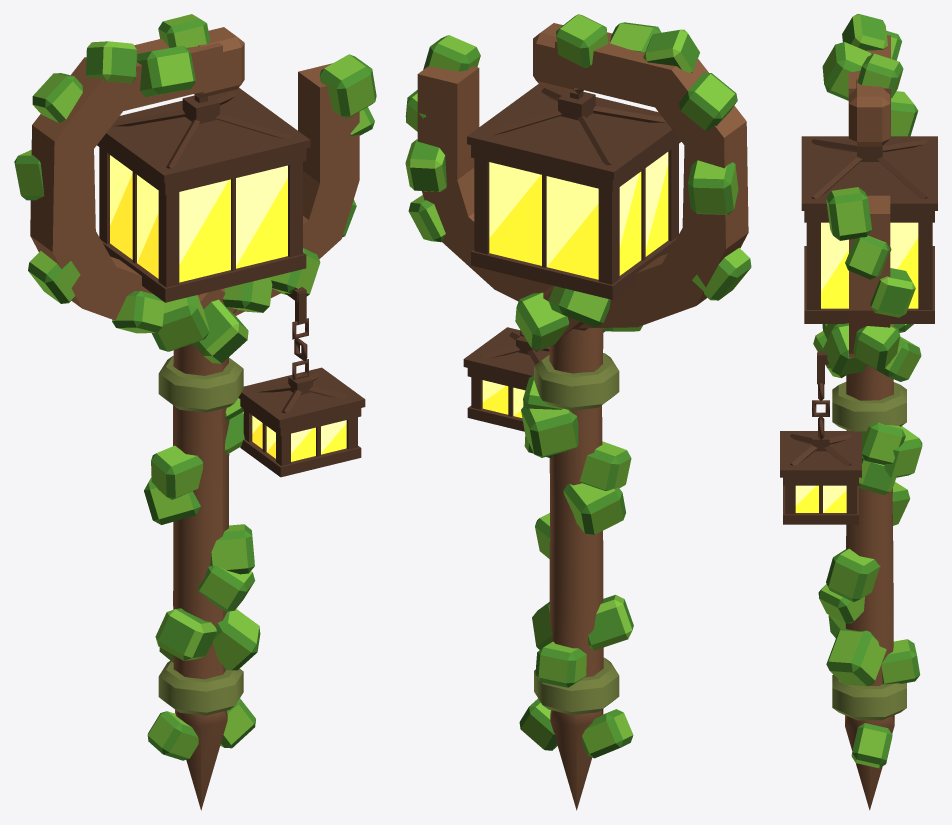
Rendered from lantern_staff.glb.
3 renders of one model, left to right at view 1: azimuth 30°, elevation 25°; view 2: azimuth 150°, elevation 25°; view 3: azimuth 270°, elevation 25°, orthographic. The views are drawn at different scales.
Visible parts, largest first — view 1: Crook_LeftArm_TopRun, LanternMain_Glass, Staff_Shaft, LanternMain_RoofPlate, Crook_RightArm, LanternSmall_RoofPlate, LanternMain_RailBottom, LanternMain_RailTop, Leaf_12, Leaf_06, Staff_Foot, Leaf_25 (+29 smaller); view 2: Crook_LeftArm_TopRun, LanternMain_Glass, Staff_Shaft, LanternMain_RoofPlate, Crook_RightArm, LanternMain_RailBottom, LanternMain_RailTop, Staff_Foot, Leaf_03, Leaf_19, Leaf_22, Leaf_04 (+27 smaller); view 3: LanternMain_RoofPlate, Staff_Shaft, LanternMain_Glass, LanternSmall_RoofPlate, Crook_RightArm, Leaf_26, Crook_EndBlock, Leaf_12, Leaf_23, Leaf_09, Leaf_06, LanternMain_RailBottom (+33 smaller).
Part boxes in pixels (x1,y1,x2,y2): Crook_LeftArm_TopRun: (30,38,222,320); LanternMain_Glass: (110,155,287,282); Staff_Shaft: (173,343,229,679); LanternMain_RoofPlate: (102,88,310,183); Crook_RightArm: (233,63,359,315); LanternSmall_RoofPlate: (238,367,365,427); LanternMain_RailBottom: (101,240,306,302); LanternMain_RailTop: (97,138,306,195); Leaf_12: (319,54,376,118); Leaf_06: (137,46,195,96); Staff_Foot: (175,709,227,810); Leaf_25: (155,608,216,660); Crook_LeftArm_TopRun: (555,32,748,328); LanternMain_Glass: (489,152,668,279); Staff_Shaft: (549,328,603,677); LanternMain_RoofPlate: (467,84,675,179); Crook_RightArm: (417,66,551,301); LanternMain_RailBottom: (471,237,677,299); LanternMain_RailTop: (471,135,681,191); Staff_Foot: (550,709,603,810); Leaf_03: (687,160,738,214); Leaf_19: (521,407,578,457); Leaf_22: (563,483,625,535); Leaf_04: (679,72,737,130); LanternMain_RoofPlate: (801,136,937,210); Staff_Shaft: (845,365,893,685); LanternMain_Glass: (821,222,918,308); LanternSmall_RoofPlate: (780,431,861,477); Crook_RightArm: (849,195,890,363); Leaf_26: (826,627,886,686); Crook_EndBlock: (849,79,890,145); Leaf_12: (826,187,871,240); Leaf_23: (826,548,880,601); Leaf_09: (853,324,900,369); Leaf_06: (822,42,871,100); LanternMain_RailBottom: (804,246,934,323).
Size of the model in its own units: 0.644 by 1.45 by 0.2755.
